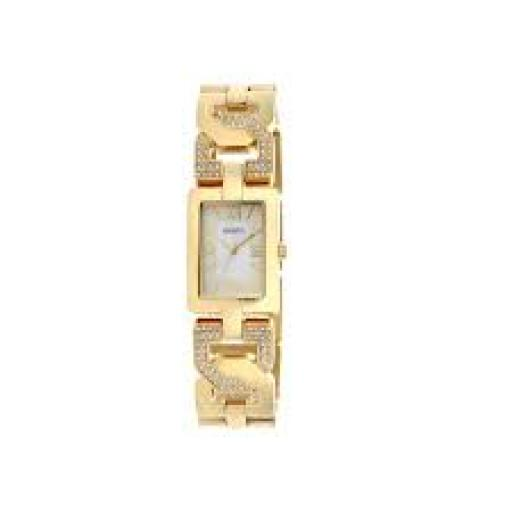KolSaati: (149, 54, 320, 455)
